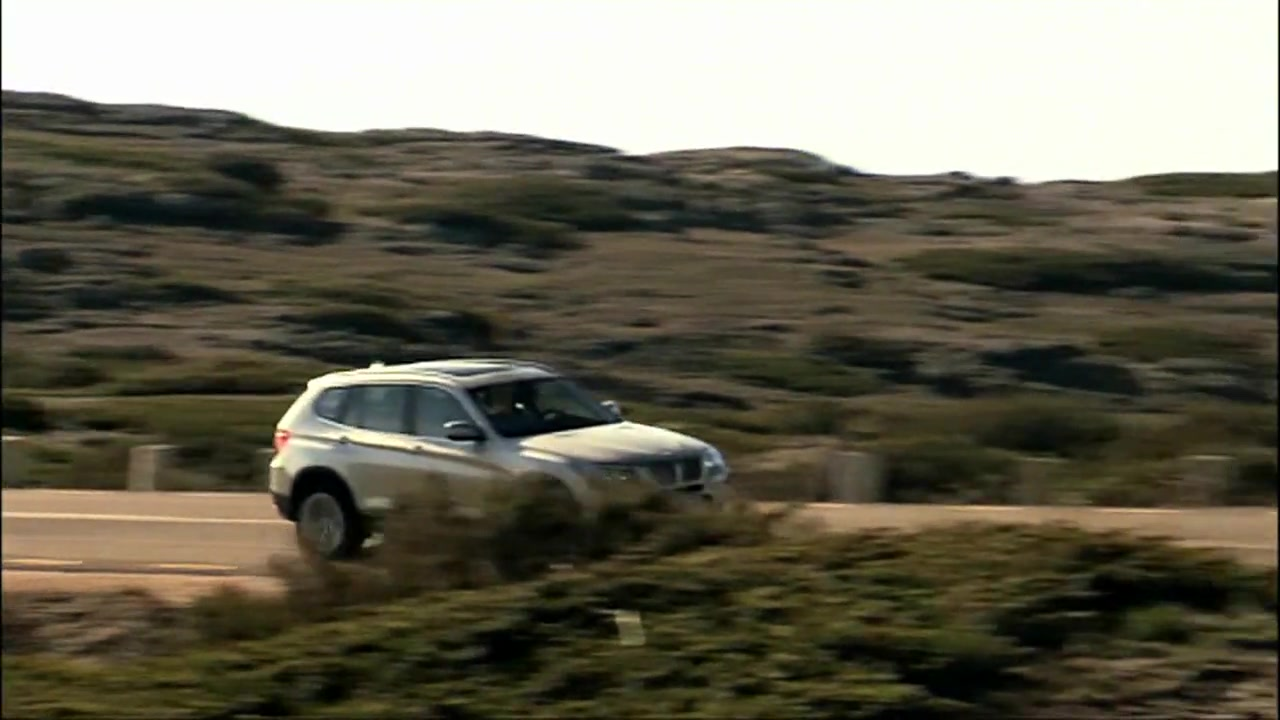car: (270, 354, 735, 575)
